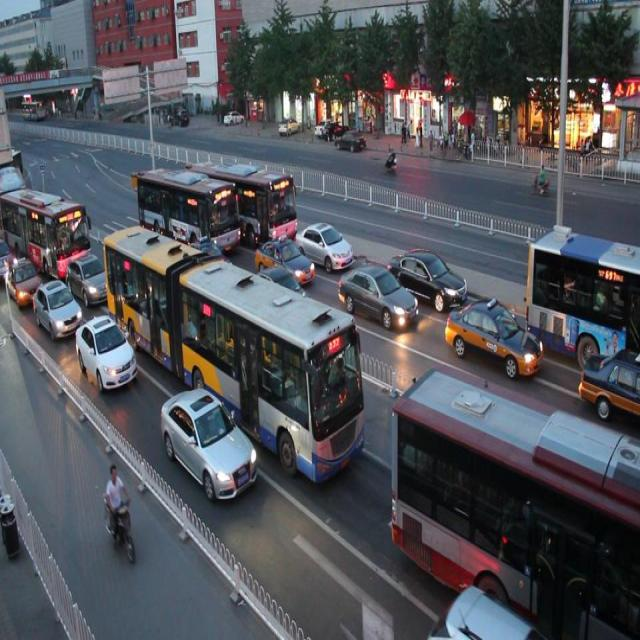car: (159, 386, 257, 502), (446, 294, 544, 382), (429, 584, 542, 640), (337, 258, 416, 331), (390, 243, 468, 309), (247, 263, 317, 334), (77, 313, 138, 392), (576, 348, 640, 419), (253, 230, 314, 289), (294, 214, 352, 273), (180, 236, 238, 291), (30, 280, 80, 336), (66, 253, 114, 308), (0, 250, 42, 307)
van: (102, 218, 366, 482), (390, 361, 640, 639), (524, 225, 640, 360), (136, 160, 240, 262), (191, 153, 298, 248), (1, 182, 90, 272)
